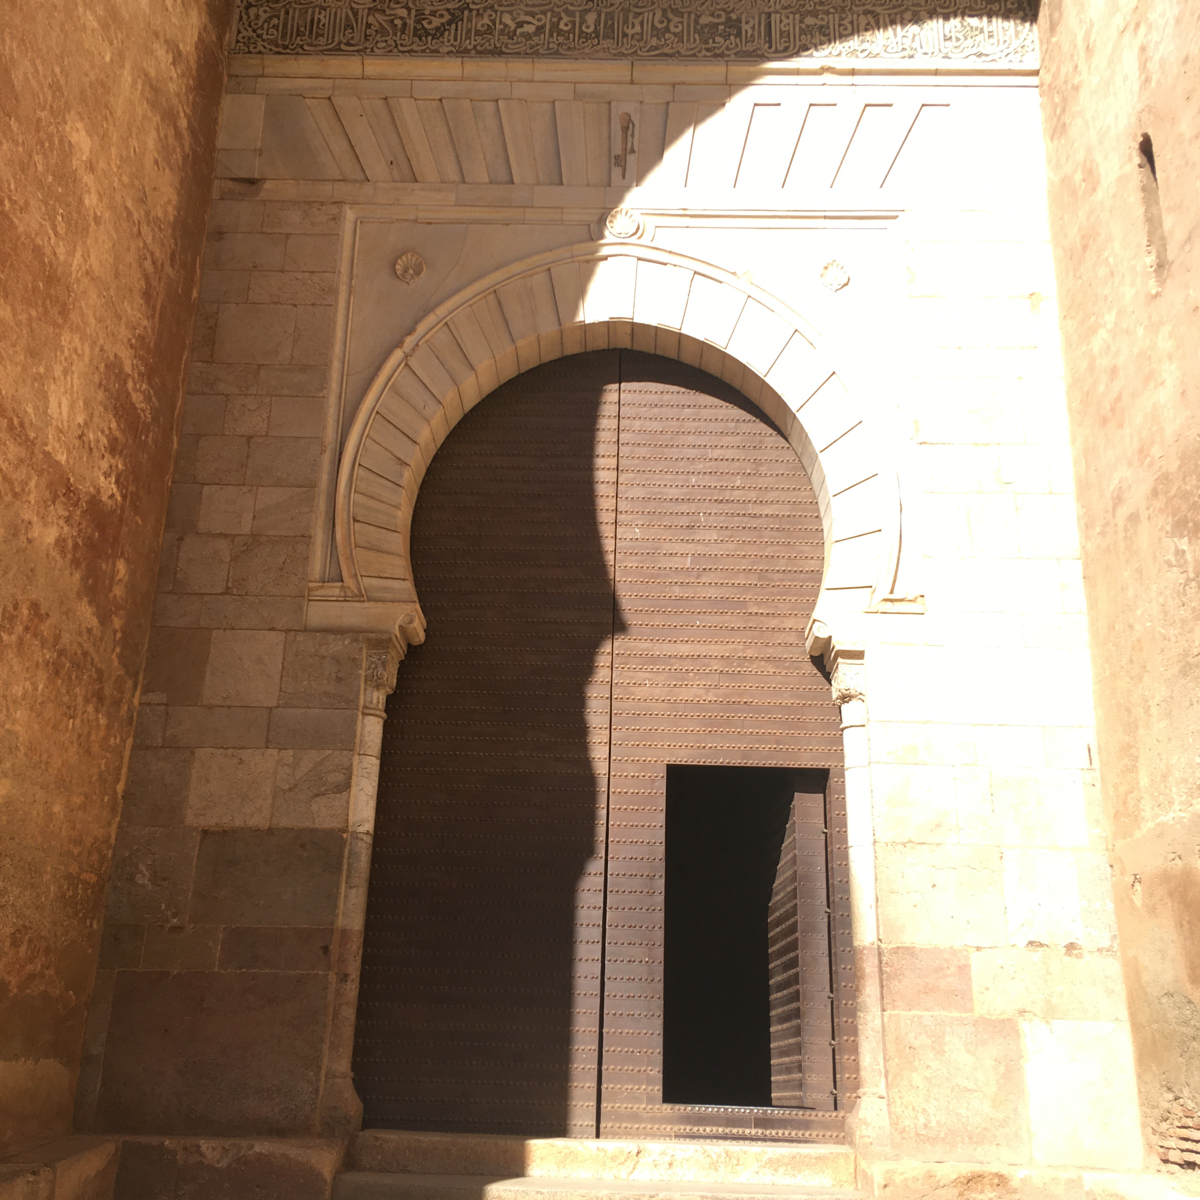arco-herradura: (327, 279, 885, 684)
dintel-adovelado: (307, 84, 793, 187)
